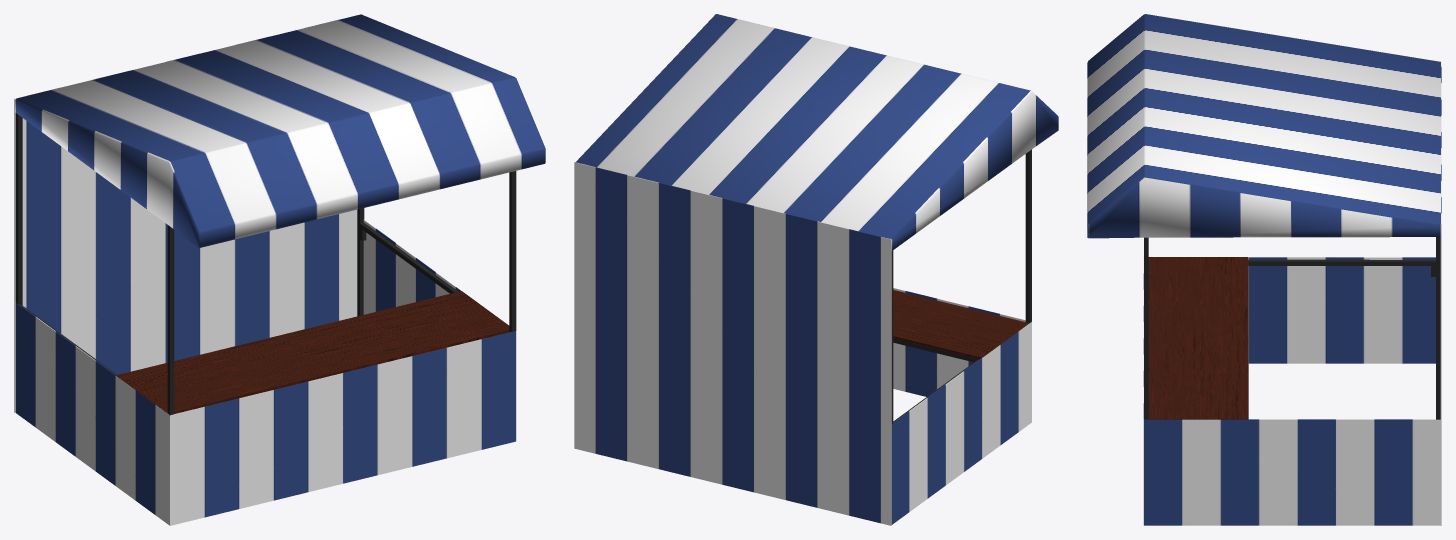
The picture shows the model from 3 angles, left to right: view 1: azimuth 30°, elevation 25°; view 2: azimuth 150°, elevation 25°; view 3: azimuth 270°, elevation 25°; orthographic projection. The views are drawn at different scales.
Parts seen in each view (by area): view 1: banner, banner.001, banner.002, table, Cube, Cube.002, Cube.004; view 2: banner.002, banner, banner.001, table, Cube; view 3: banner, banner.001, table, Cube.003, Cube.002, Cube, banner.002.
Part boxes in pixels (left/top/right/bottom): banner: left=15, top=14, right=545, bottom=247; banner.001: left=15, top=220, right=516, bottom=525; banner.002: left=14, top=14, right=362, bottom=412; table: left=116, top=291, right=509, bottom=413; Cube: left=167, top=171, right=516, bottom=415; Cube.002: left=15, top=99, right=364, bottom=316; Cube.004: left=360, top=222, right=458, bottom=293; banner.002: left=574, top=162, right=891, bottom=525; banner: left=576, top=14, right=1058, bottom=250; banner.001: left=891, top=288, right=1031, bottom=524; table: left=893, top=290, right=1029, bottom=359; Cube: left=1025, top=149, right=1031, bottom=322; banner: left=1087, top=14, right=1440, bottom=238; banner.001: left=1143, top=257, right=1440, bottom=525; table: left=1148, top=257, right=1248, bottom=419; Cube.003: left=1248, top=259, right=1435, bottom=276; Cube.002: left=1436, top=224, right=1440, bottom=419; Cube: left=1144, top=237, right=1148, bottom=419; banner.002: left=1440, top=61, right=1441, bottom=525.
Bounding box in the file's own units: 11.98 × 11.99 × 11.
Materials: 3 (2 with a texture image).
